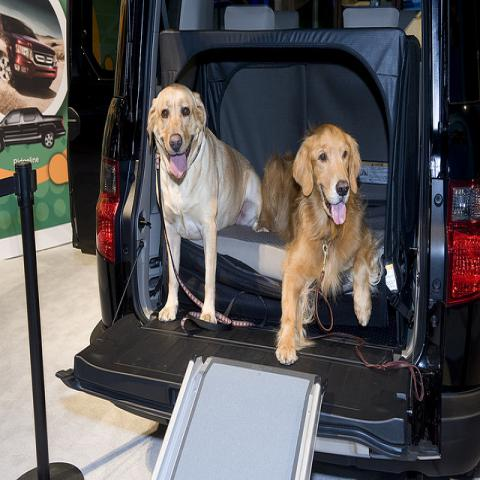car: (57, 4, 480, 474)
